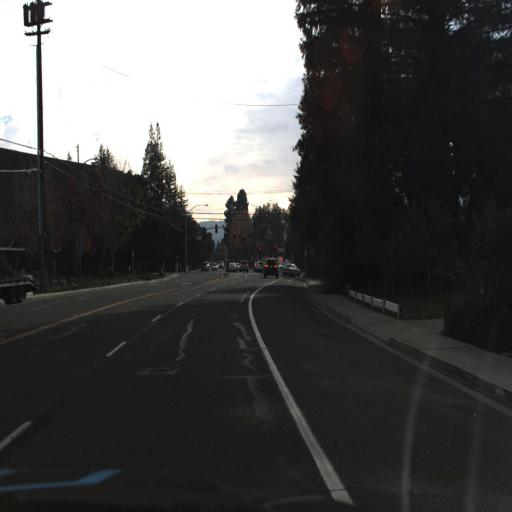car: (280, 258, 301, 280), (262, 257, 279, 278)
